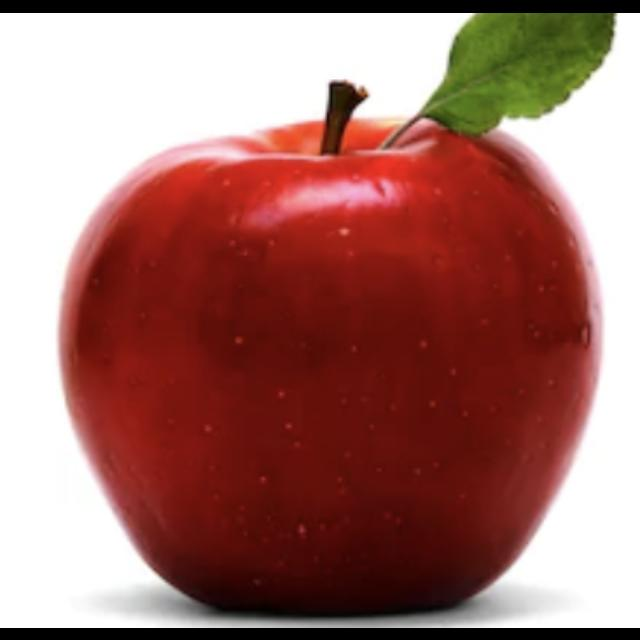Apel Segar: (56, 91, 605, 619)
